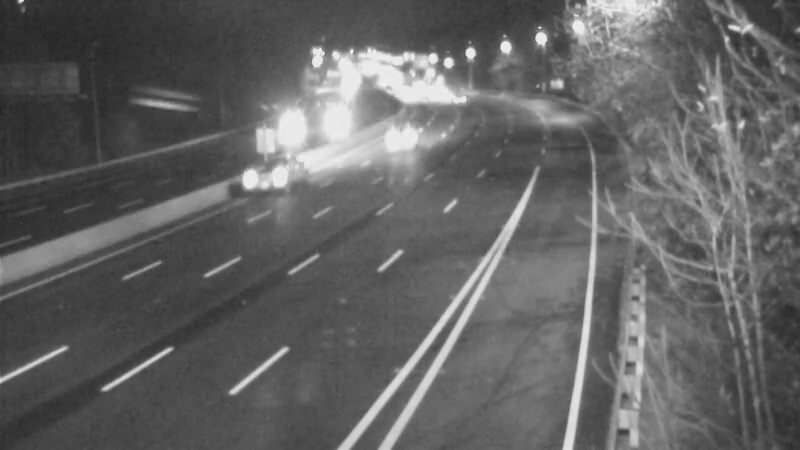vehicle: (234, 136, 314, 216), (383, 68, 433, 118), (432, 77, 482, 127), (406, 78, 456, 128), (384, 110, 434, 160), (266, 105, 316, 155), (318, 95, 368, 145)
